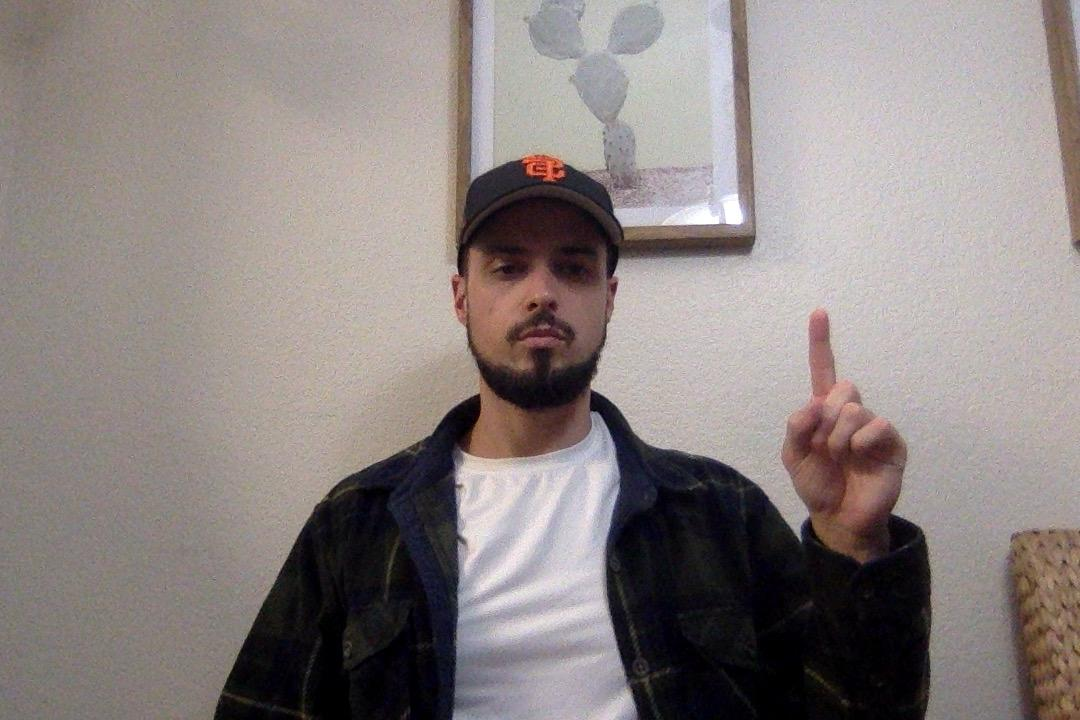Pointing-Up: (774, 305, 920, 545)
